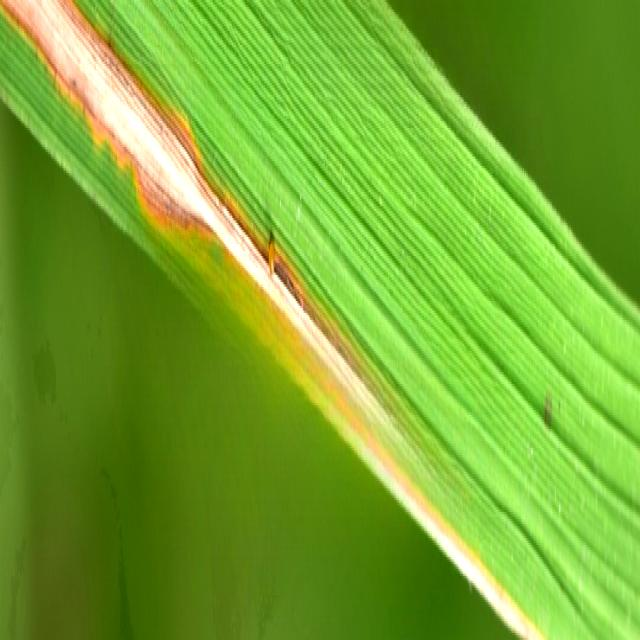BLB: (1, 0, 548, 640)
